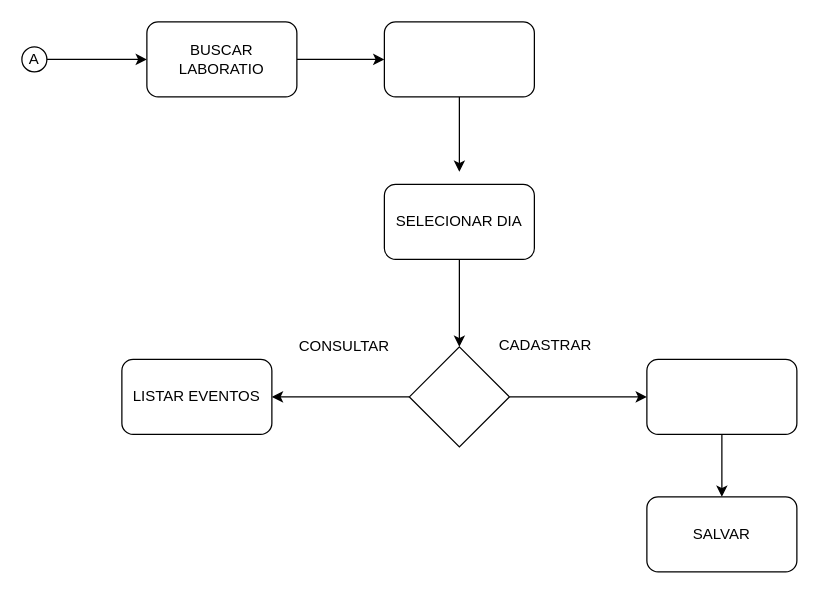
The diagram is 819 pixels wide and 594 high, and some of its shapes have lost their labels. The centre of each missing label's shape, as x and y in pixels:
"CLICAR EM AGENDA" belongs at point 458,59.
"FORMULARIO CADASTRO EVENTO" belongs at point 721,396.
